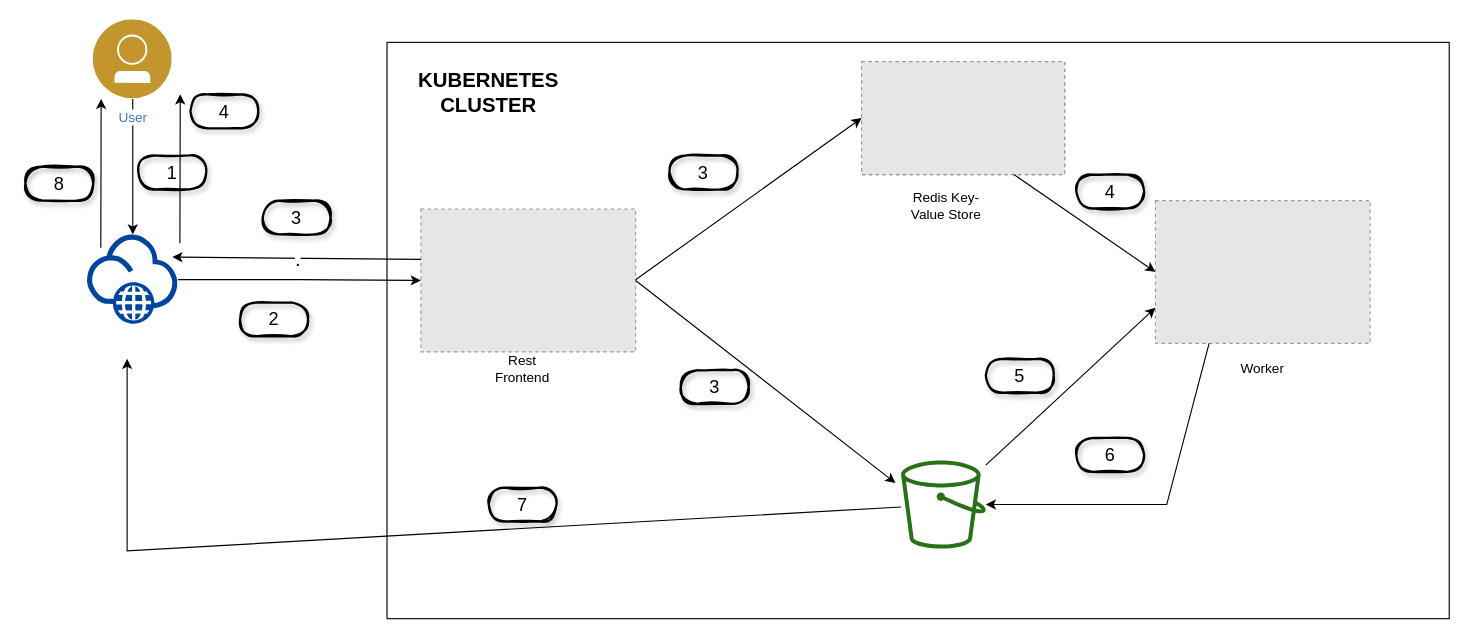
This 1469x638 diagram has some shape labels left out. Grey dashed boxes stand in for pictures. The centre of each missing label's shape, as x and y in pixels:
"Internet" belongs at point (132, 279).
"Object Store(min.io)" belongs at point (942, 504).
